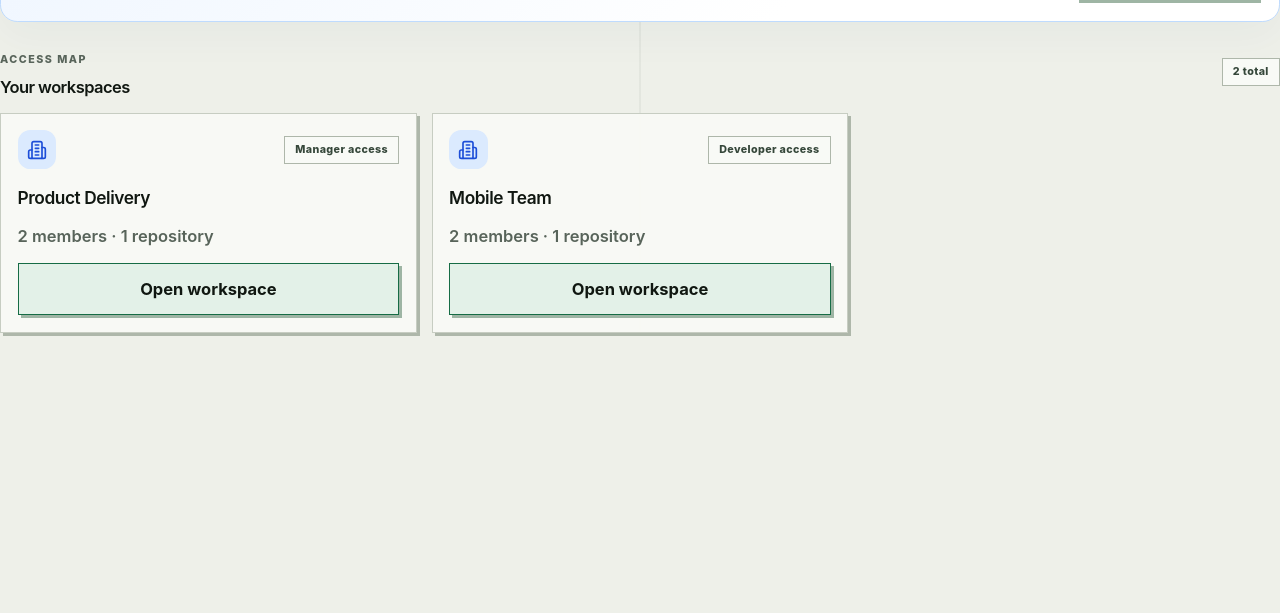
workspace experience › lists pending invitations for Managers and revokes without changing membership
The width and height of the screenshot is (1280, 613).
Click the button with aria-label "Open Product Delivery" at (208, 289), box [18, 263, 399, 315]
(page scrolled)
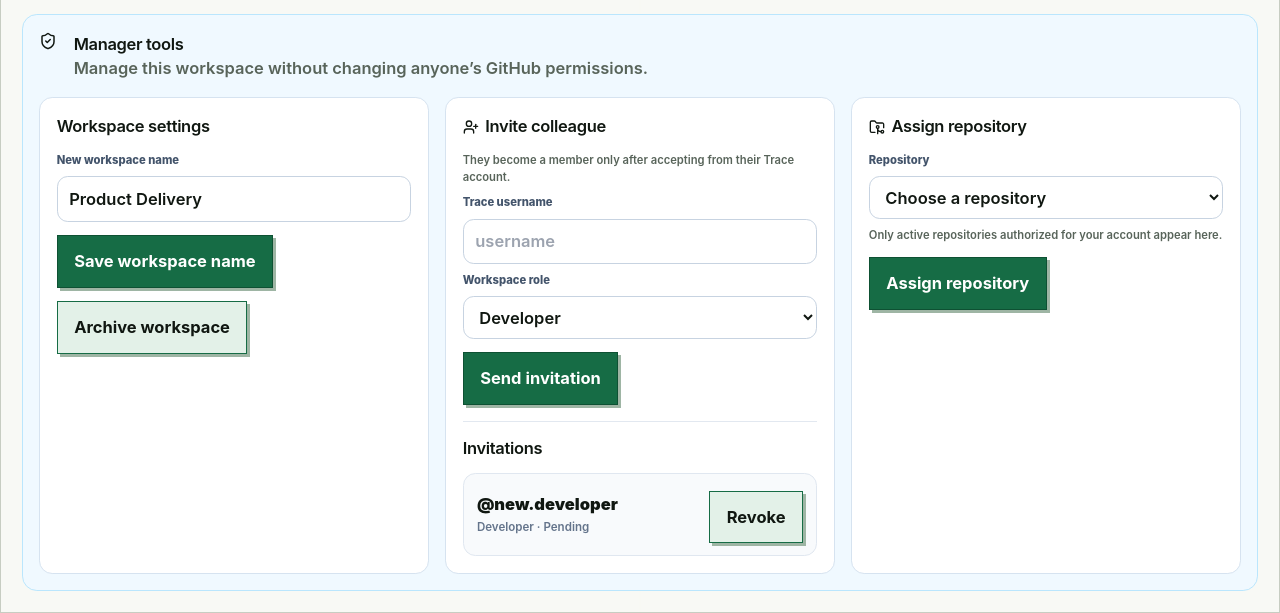
Expected: the text "@new.developer" is shown, [477, 492, 618, 517]
Expected: the text "Developer · Pending" is shown, [477, 520, 589, 534]
Click the button with aria-label "Revoke invitation for @new.developer" at (756, 517), box [709, 491, 803, 544]
(page scrolled)
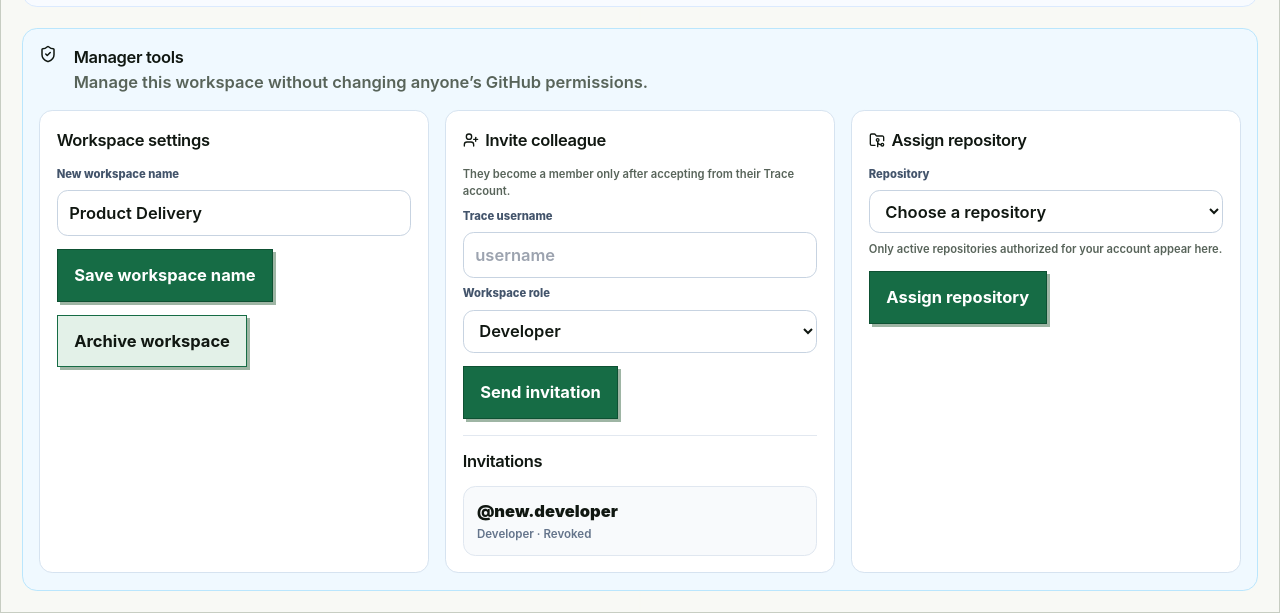
Expected: the text "Developer · Revoked" is shown, [477, 527, 591, 541]
